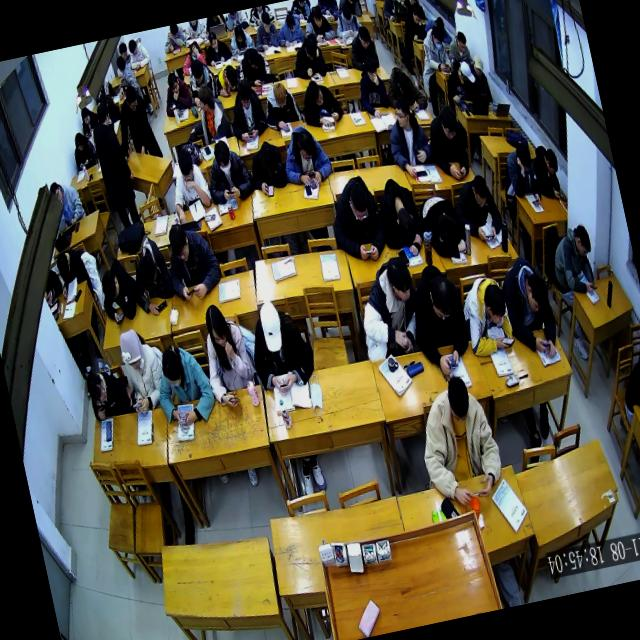bow: (495, 250, 564, 366), (147, 335, 220, 433), (456, 270, 519, 362), (372, 172, 429, 262), (122, 232, 178, 321), (416, 190, 470, 264), (93, 253, 144, 328), (296, 74, 346, 132), (84, 364, 132, 424), (244, 138, 290, 200), (382, 60, 429, 118), (529, 141, 567, 205), (52, 244, 93, 300), (289, 34, 329, 83), (209, 60, 245, 100), (176, 38, 208, 76), (159, 22, 187, 54)
down: (256, 296, 288, 356), (424, 271, 458, 326), (442, 373, 476, 427), (521, 269, 553, 317), (202, 302, 231, 352), (480, 280, 510, 328), (116, 329, 146, 376), (158, 346, 187, 391), (344, 181, 372, 226), (166, 222, 193, 266), (436, 104, 462, 142), (294, 128, 320, 165), (211, 138, 235, 178), (175, 146, 198, 186), (469, 172, 492, 212), (256, 140, 280, 178), (98, 268, 122, 302), (234, 77, 256, 112), (514, 140, 534, 176), (305, 78, 326, 110), (54, 250, 74, 282), (270, 80, 290, 112), (122, 83, 141, 115), (542, 146, 560, 178), (362, 54, 381, 84), (394, 69, 413, 99), (429, 23, 447, 53), (188, 58, 206, 86), (222, 63, 240, 90), (164, 71, 182, 96), (245, 46, 262, 72), (302, 36, 319, 62), (356, 24, 372, 51), (310, 4, 326, 30), (470, 52, 486, 78), (340, 2, 354, 27), (258, 10, 273, 33), (188, 38, 202, 62), (232, 22, 246, 46), (454, 30, 468, 54), (283, 12, 298, 34), (410, 5, 424, 26), (126, 38, 140, 58), (73, 131, 86, 152), (80, 105, 92, 126), (207, 30, 219, 51), (168, 24, 181, 41)
sit: (408, 368, 510, 515), (346, 252, 429, 366), (402, 258, 477, 382), (240, 292, 320, 400), (192, 297, 259, 414), (85, 98, 144, 230), (322, 170, 392, 269), (158, 214, 227, 307), (379, 90, 438, 184), (114, 323, 170, 418), (110, 80, 165, 168), (544, 222, 602, 301), (421, 102, 475, 186), (162, 143, 216, 227), (450, 170, 508, 247), (199, 134, 256, 208), (276, 120, 334, 192), (182, 82, 234, 150), (222, 74, 271, 146), (498, 139, 544, 213), (258, 76, 306, 136), (351, 52, 392, 121), (46, 174, 88, 233), (440, 54, 480, 108), (234, 42, 274, 92), (183, 56, 220, 109), (418, 22, 453, 78), (612, 350, 640, 417), (344, 23, 380, 75), (158, 68, 194, 118), (299, 2, 337, 46), (249, 8, 281, 54), (467, 51, 493, 106), (272, 9, 306, 50), (330, 0, 363, 42), (200, 28, 233, 68), (112, 52, 141, 96), (70, 129, 98, 172), (399, 4, 428, 44), (225, 22, 256, 59), (444, 29, 472, 68), (124, 34, 152, 72), (77, 104, 101, 138), (378, 0, 405, 22)
